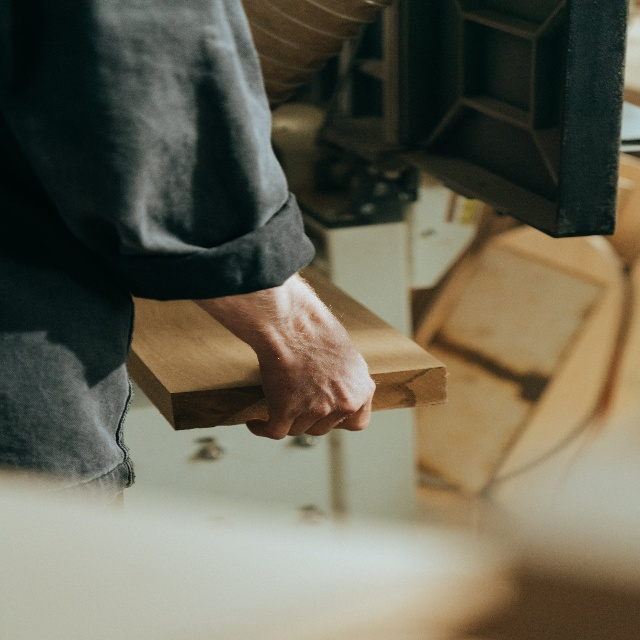Sin_guantes: (245, 289, 380, 441)
